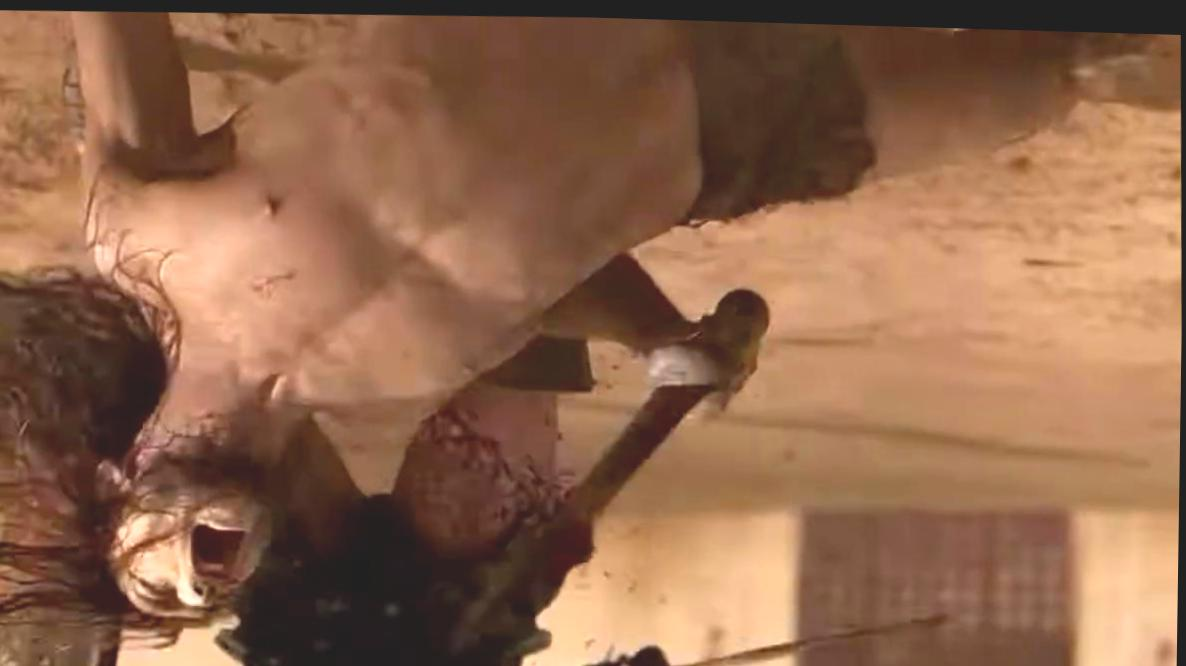Fire: (405, 402, 576, 521)
